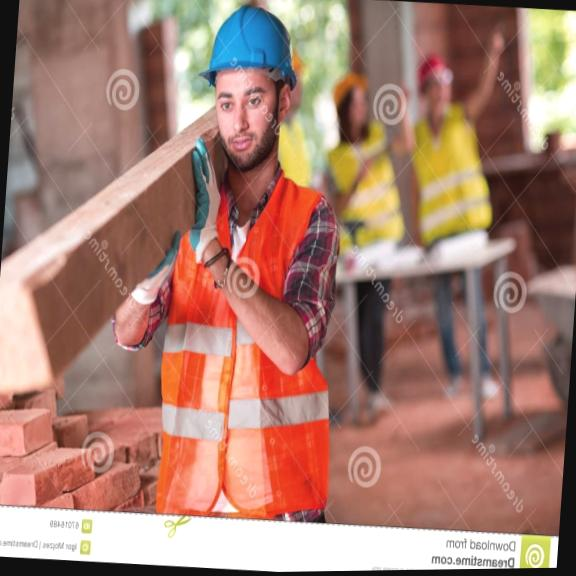safety_vest: (151, 146, 328, 486)
